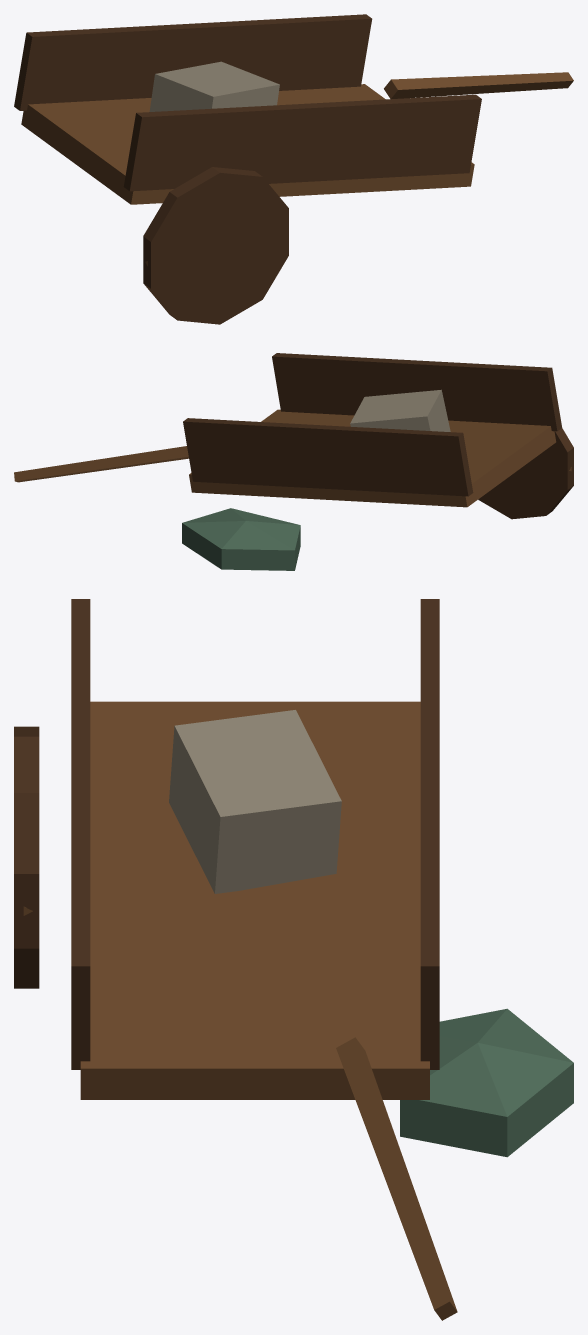
Rendered from br_x_drowned_cart.glb.
3 renders of one model, top to bottom at view 1: azimuth 30°, elevation 25°; view 2: azimuth 150°, elevation 25°; view 3: azimuth 270°, elevation 25°, orthographic. The views are drawn at different scales.
Parts seen in each view (by area): view 1: br_x_drowned_cart; view 2: br_x_drowned_cart; view 3: br_x_drowned_cart.
Boxes of the visible parts, x1=… form: br_x_drowned_cart: x1=14, y1=14, x2=573, y2=324; br_x_drowned_cart: x1=14, y1=353, x2=573, y2=570; br_x_drowned_cart: x1=14, y1=599, x2=573, y2=1320.
Bounding box in the file's own units: 3.23 × 1.16 × 1.76.
